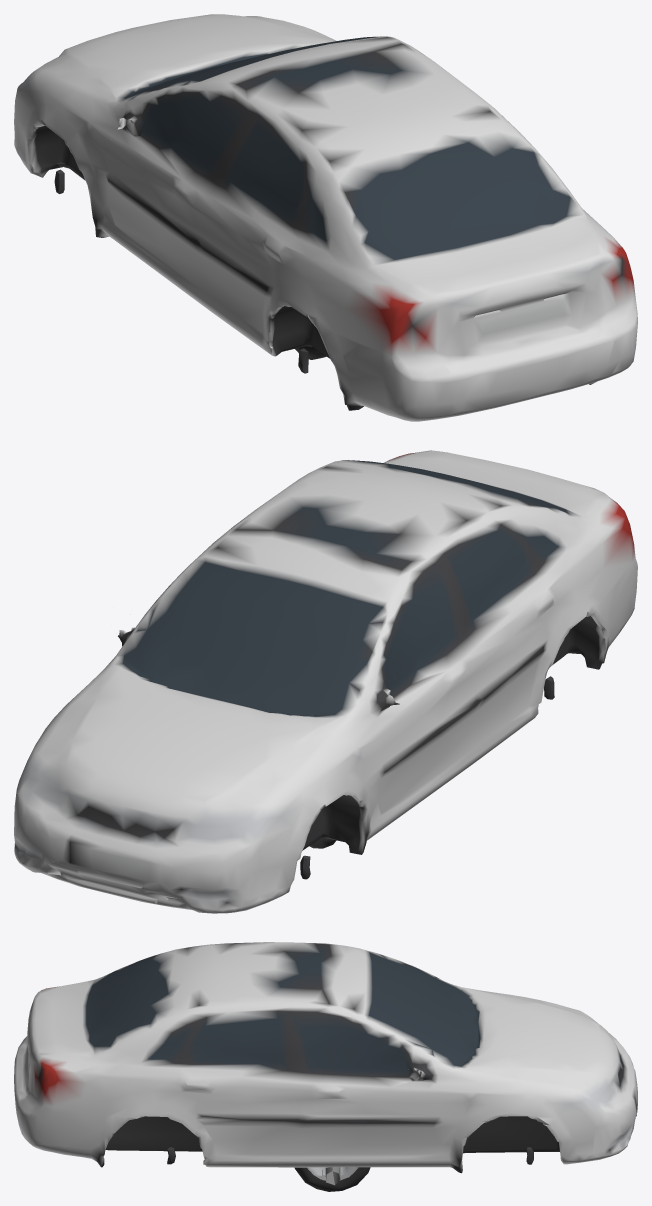
The model's file is gentra_npc.glb.
The picture shows the model from 3 angles, top to bottom: view 1: azimuth 30°, elevation 25°; view 2: azimuth 150°, elevation 25°; view 3: azimuth 270°, elevation 25°; orthographic projection. The views are drawn at different scales.
Visible parts, largest first — view 1: CarParked; view 2: CarParked; view 3: CarParked, NpcWheel.
Part boxes in pixels (left/top/right/bottom): CarParked: left=14, top=14, right=637, bottom=421; CarParked: left=14, top=450, right=637, bottom=913; CarParked: left=14, top=942, right=637, bottom=1173; NpcWheel: left=294, top=1167, right=370, bottom=1191.
Bounding box in the file's own units: 1.92 × 1.75 × 4.53.
